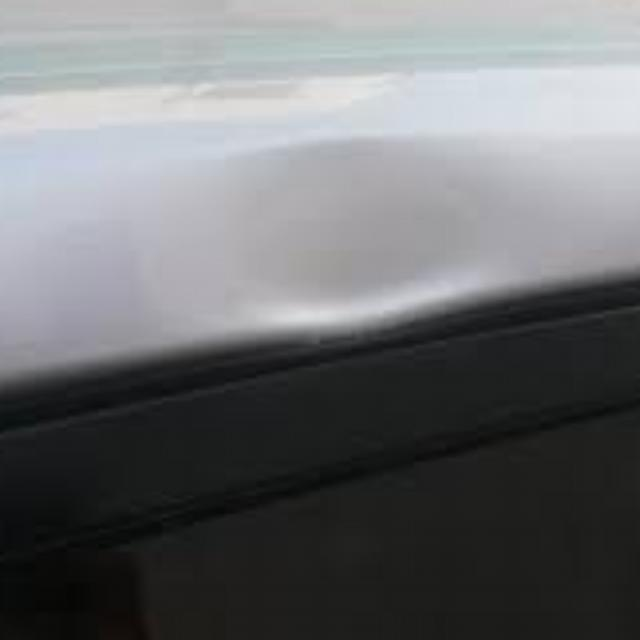dents: (207, 181, 501, 315)
